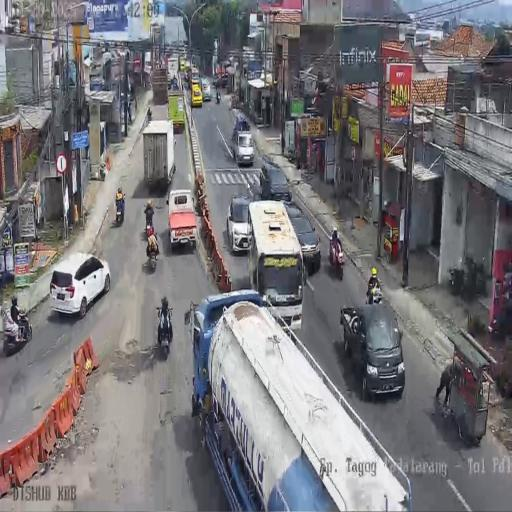car: (338, 304, 404, 400), (48, 250, 111, 316), (284, 204, 320, 273), (167, 188, 197, 250), (226, 193, 252, 253), (260, 162, 290, 202), (235, 129, 255, 166), (191, 82, 203, 108), (201, 76, 212, 102), (214, 72, 228, 88)
motorcycle: (2, 305, 32, 356), (156, 303, 174, 358), (145, 211, 156, 240), (115, 197, 124, 225), (146, 106, 152, 124), (216, 91, 220, 104)
truck: (142, 119, 174, 189), (167, 90, 186, 129), (167, 56, 180, 90), (185, 63, 192, 84), (180, 57, 186, 72)
